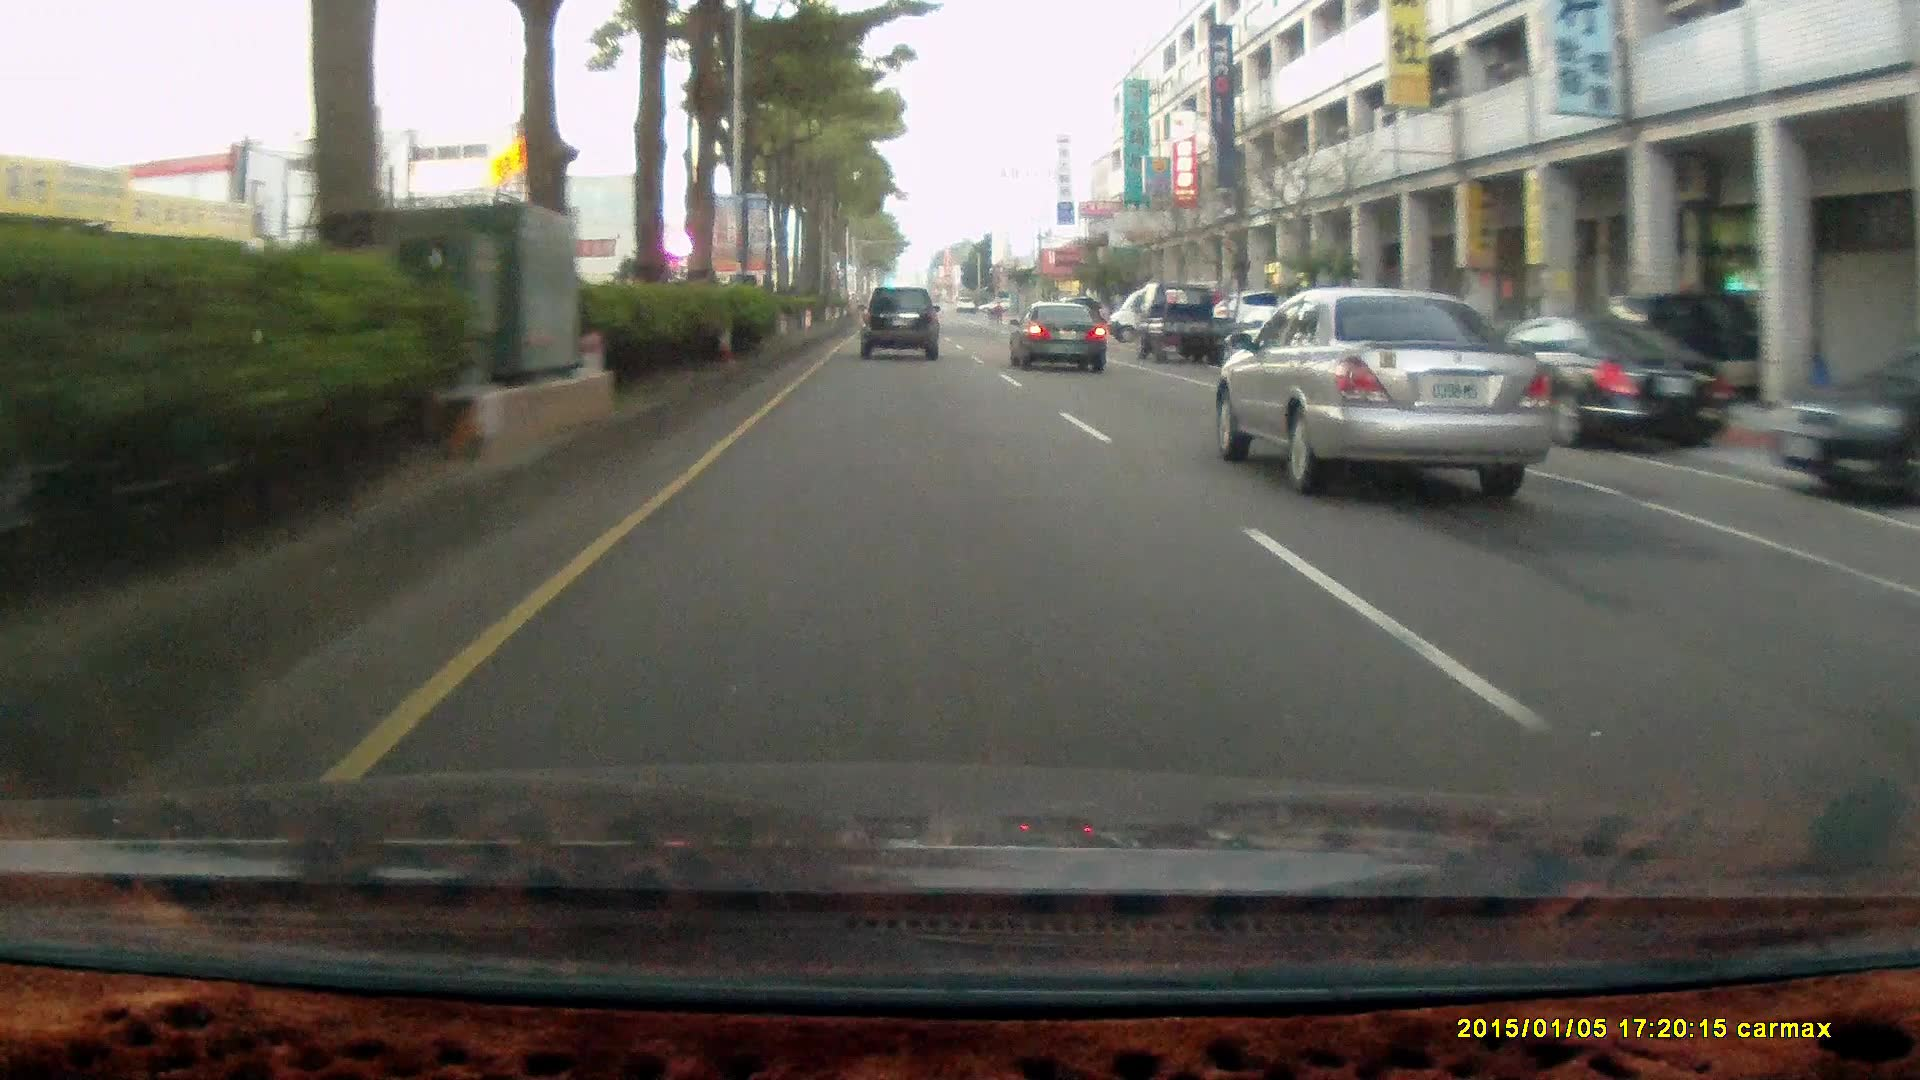vehicle: (1209, 286, 1547, 489), (1451, 306, 1727, 451), (1449, 307, 1727, 448), (1767, 320, 1920, 504), (1768, 342, 1920, 501), (1226, 301, 1358, 381), (1139, 280, 1247, 371), (1134, 278, 1233, 361), (1017, 297, 1116, 369), (1007, 298, 1105, 369), (1106, 282, 1217, 344), (858, 285, 942, 361), (857, 284, 939, 356)
